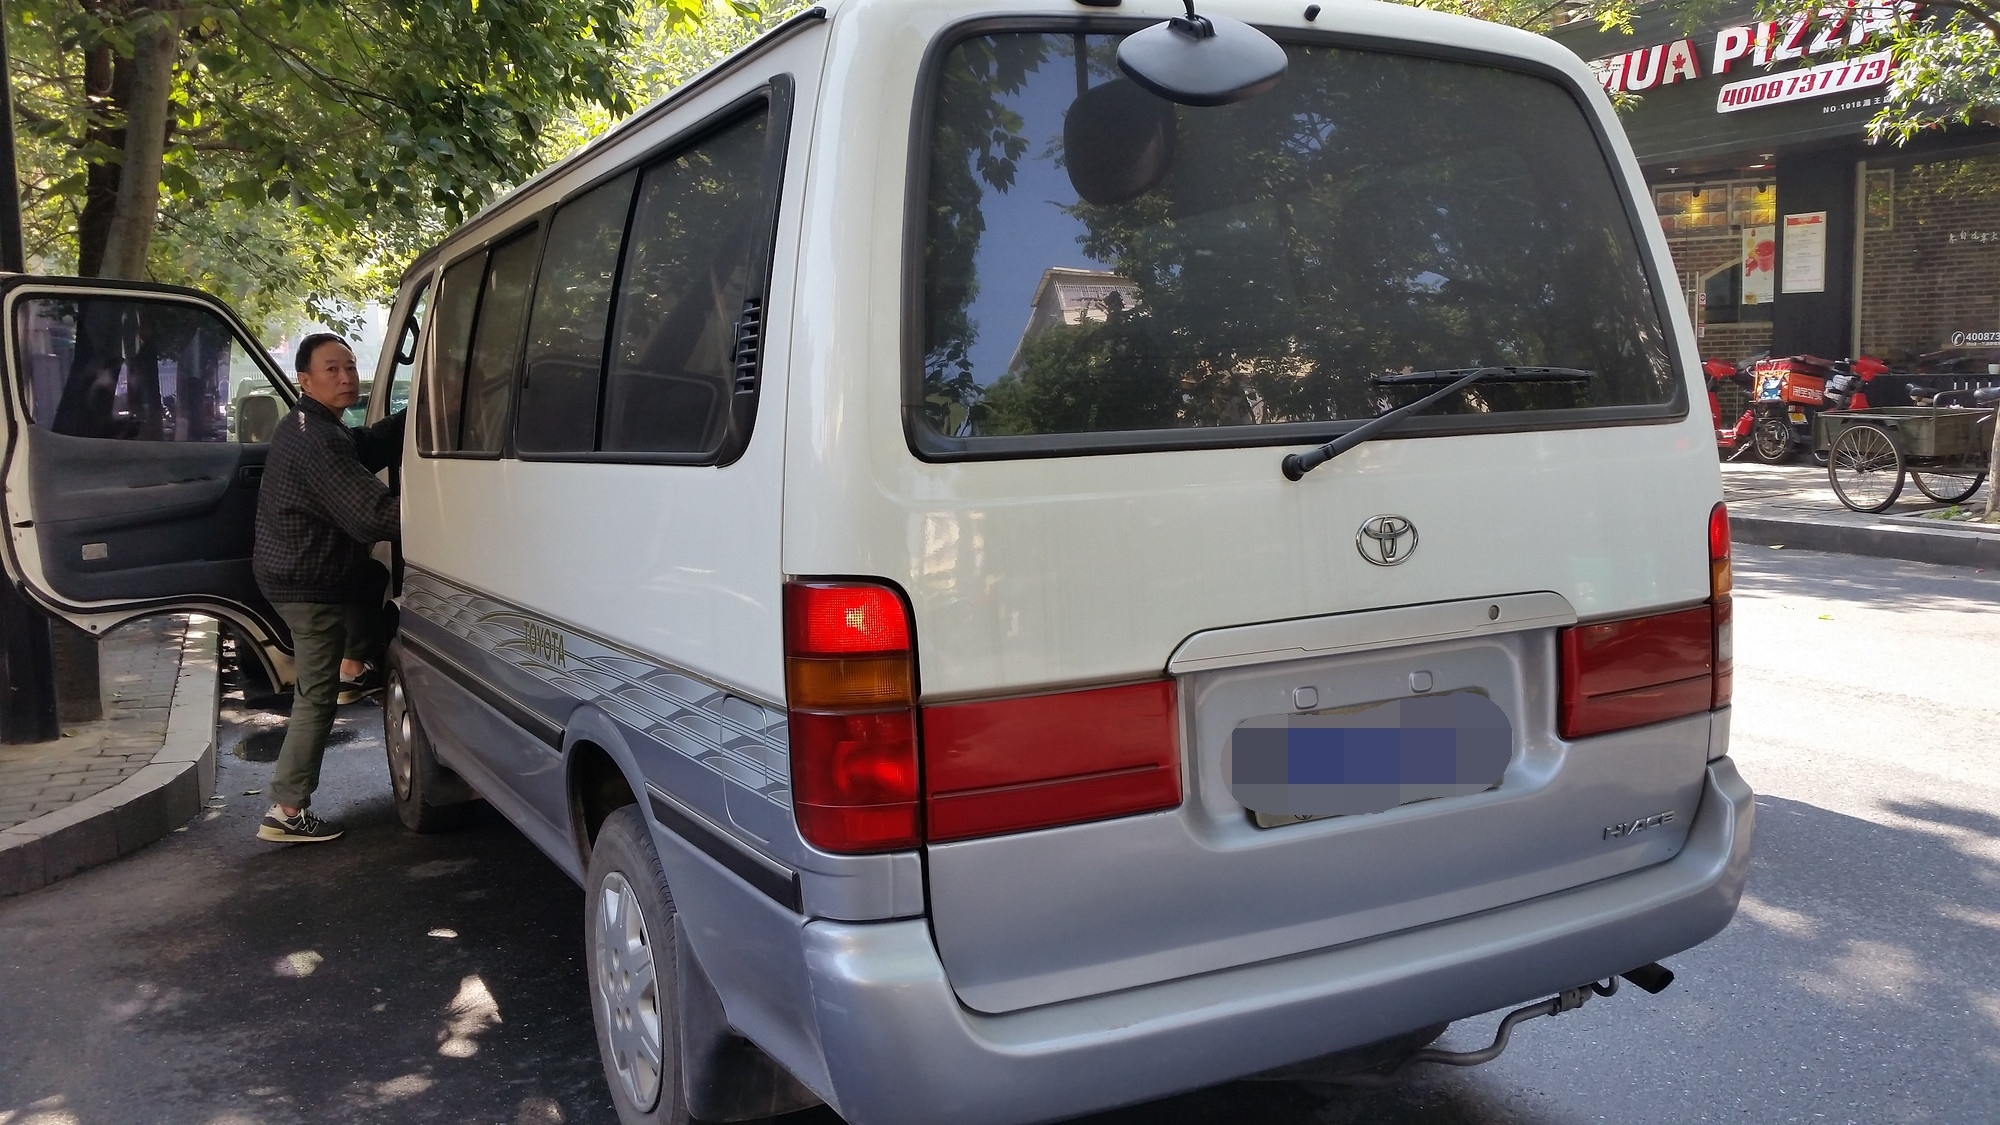minibus: (352, 23, 1788, 1125)
